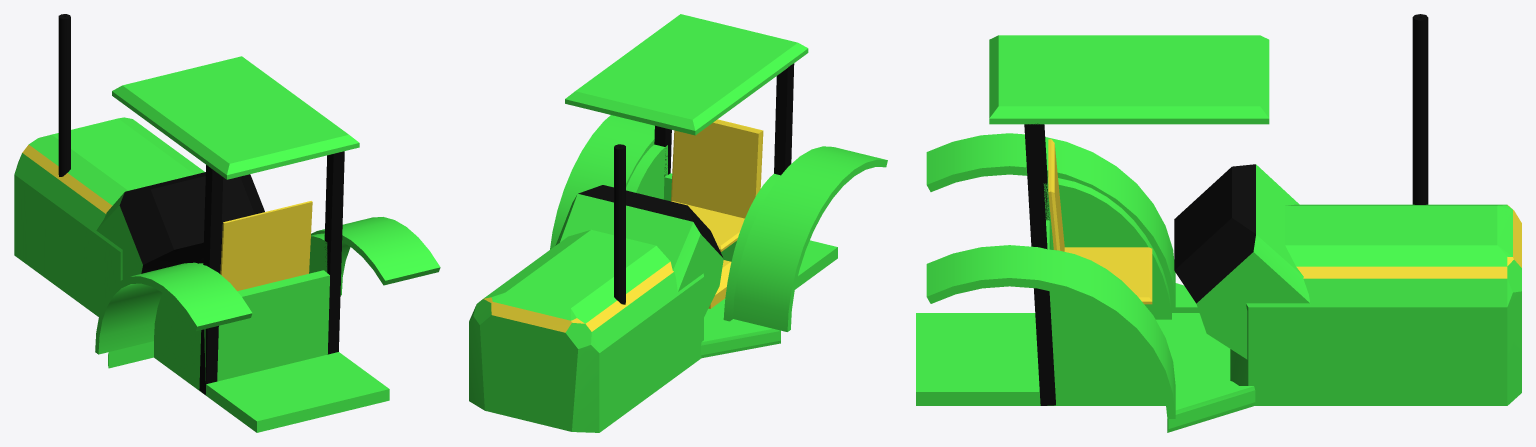
Rendered from Tractor.obj.
The picture shows the model from 3 angles, left to right: view 1: azimuth 30°, elevation 25°; view 2: azimuth 150°, elevation 25°; view 3: azimuth 270°, elevation 25°; orthographic projection. The views are drawn at different scales.
Visible parts, largest first — view 1: Tractor; view 2: Tractor; view 3: Tractor.
Boxes of the visible parts, <box> form: Tractor: <box>14,14,440,432</box>; Tractor: <box>469,14,887,432</box>; Tractor: <box>916,14,1521,432</box>.
Size of the model in its own units: 1.1 by 1.13 by 1.95.
